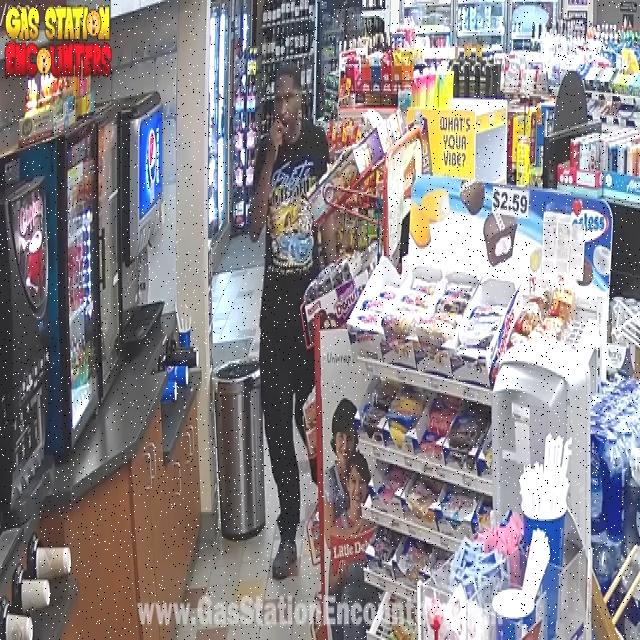hands: (250, 119, 284, 240)
person: (250, 68, 336, 578)
